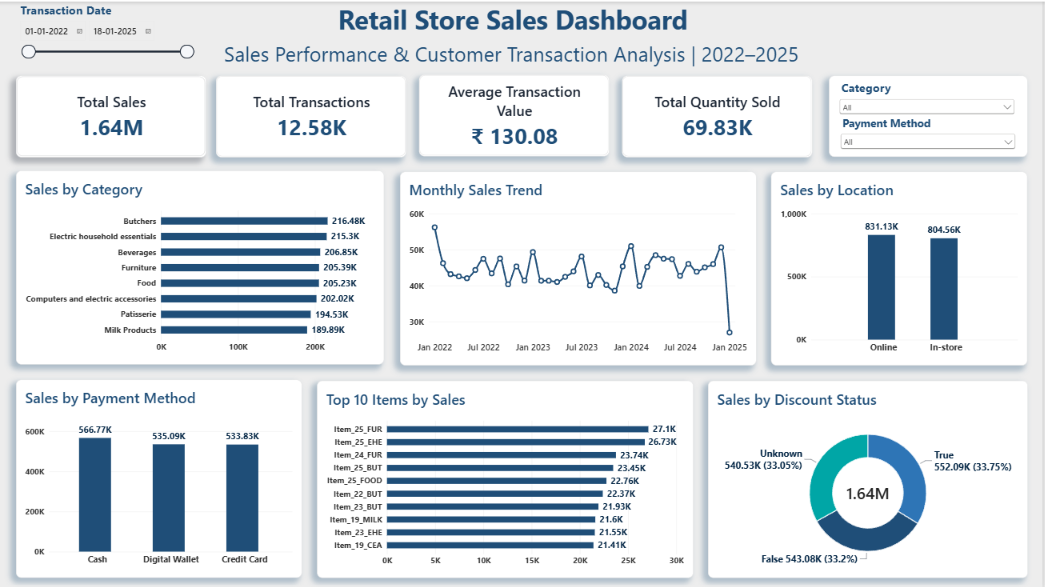

This screenshot's page, from the dashboard's own definition file:
{"tool":"powerbi","page":{"name":"Retail_Store_Sales_Dashboard","canvas":[1920,1080],"ordinal":0},"visuals":[{"type":"textbox","box":[1525.7,136.3,365.7,149.3],"z":0},{"type":"cardVisual","fields":{"Data":["cleaned_retail_store_sales.Total Sales"]},"box":[30.3,136,350,150],"z":1000},{"type":"cardVisual","fields":{"Data":["cleaned_retail_store_sales.Total Transactions"]},"box":[398.2,136.3,350,150],"z":2000},{"type":"cardVisual","fields":{"Data":["cleaned_retail_store_sales.Average Transaction Value"]},"box":[770.4,134.2,350,150],"z":3000},{"type":"cardVisual","fields":{"Data":["cleaned_retail_store_sales.Total Quantity Sold"]},"box":[1144.8,136.3,350,150],"z":4000},{"type":"textbox","box":[622.4,0,675.2,69.3],"z":5000},{"type":"textbox","box":[411.4,69.3,1097.2,56.3],"z":6000},{"type":"clusteredBarChart","title":"Sales by Category","fields":{"Category":["cleaned_retail_store_sales.Category"],"Y":["cleaned_retail_store_sales.Total Sales"]},"box":[30.3,311.6,677.4,357.1],"z":7000},{"type":"lineChart","title":"Monthly Sales Trend","fields":{"Category":["cleaned_retail_store_sales.Transaction Date.Variation.Date Hierarchy.Year","cleaned_retail_store_sales.Transaction Date.Variation.Date Hierarchy.Month"],"Y":["cleaned_retail_store_sales.Total Sales"]},"box":[735.8,313.8,655.7,357.1],"z":8000},{"type":"clusteredColumnChart","title":"Sales by Payment Method","fields":{"Category":["cleaned_retail_store_sales.Payment Method"],"Y":["cleaned_retail_store_sales.Total Sales"]},"box":[29.4,695.8,526.4,364.4],"z":9000},{"type":"clusteredColumnChart","title":"Sales by Location","fields":{"Category":["cleaned_retail_store_sales.Location"],"Y":["cleaned_retail_store_sales.Total Sales"]},"box":[1419.7,312.2,471.8,357.1],"z":10000},{"type":"clusteredBarChart","title":"Top 10 Items by Sales","fields":{"Category":["cleaned_retail_store_sales.Item"],"Y":["cleaned_retail_store_sales.Total Sales"]},"box":[584.3,696.9,692.5,363.6],"z":11000},{"type":"donutChart","title":"Sales by Discount Status","fields":{"Category":["cleaned_retail_store_sales.Discount Applied"],"Y":["cleaned_retail_store_sales.Total Sales"]},"box":[1302.8,696.9,589,363.6],"z":12000},{"type":"slicer","fields":{"Values":["cleaned_retail_store_sales.Transaction Date"]},"box":[29.4,0,331.1,142.8],"z":13000},{"type":"slicer","fields":{"Values":["cleaned_retail_store_sales.Category"]},"box":[1540.9,142.8,331.1,67.1],"z":14000},{"type":"slicer","fields":{"Values":["cleaned_retail_store_sales.Payment Method"]},"box":[1543,209.9,331.1,73.6],"z":15000}]}

Visuals, with their boxes in screenshot pixels (x1, y1, x2, y2), scaled from the page's 1920x1080 canvas onto the 1045x587 screenshot:
textbox: [830,74,1029,155]
cardVisual - cleaned_retail_store_sales.Total Sales: [16,74,207,155]
cardVisual - cleaned_retail_store_sales.Total Transactions: [217,74,407,156]
cardVisual - cleaned_retail_store_sales.Average Transaction Value: [419,73,610,154]
cardVisual - cleaned_retail_store_sales.Total Quantity Sold: [623,74,814,156]
textbox: [339,0,706,38]
textbox: [224,38,821,68]
"Sales by Category" clusteredBarChart: [16,169,385,363]
"Monthly Sales Trend" lineChart: [400,171,757,365]
"Sales by Payment Method" clusteredColumnChart: [16,378,303,576]
"Sales by Location" clusteredColumnChart: [773,170,1029,364]
"Top 10 Items by Sales" clusteredBarChart: [318,379,695,576]
"Sales by Discount Status" donutChart: [709,379,1030,576]
slicer - cleaned_retail_store_sales.Transaction Date: [16,0,196,78]
slicer - cleaned_retail_store_sales.Category: [839,78,1019,114]
slicer - cleaned_retail_store_sales.Payment Method: [840,114,1020,154]
